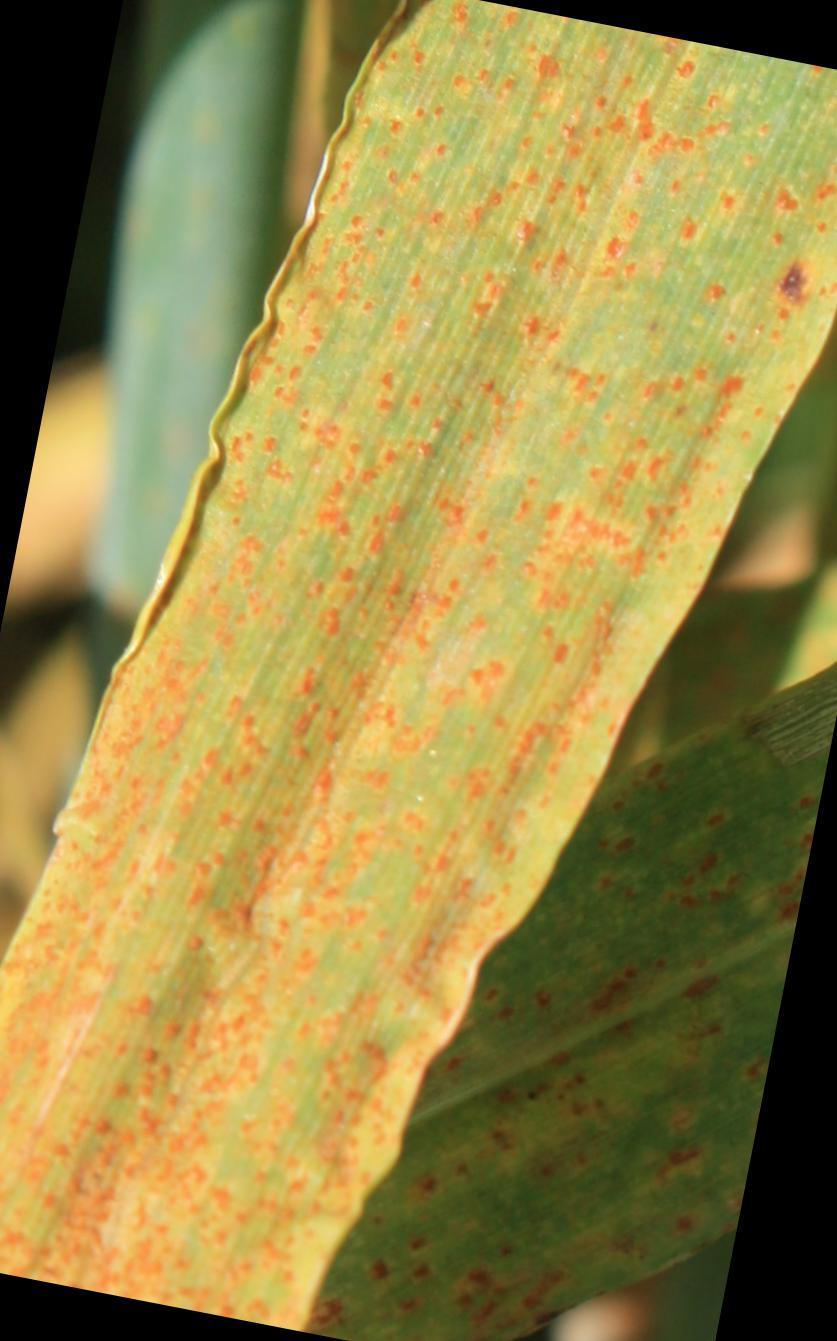Corn: (14, 459, 648, 1315), (230, 29, 832, 614)
